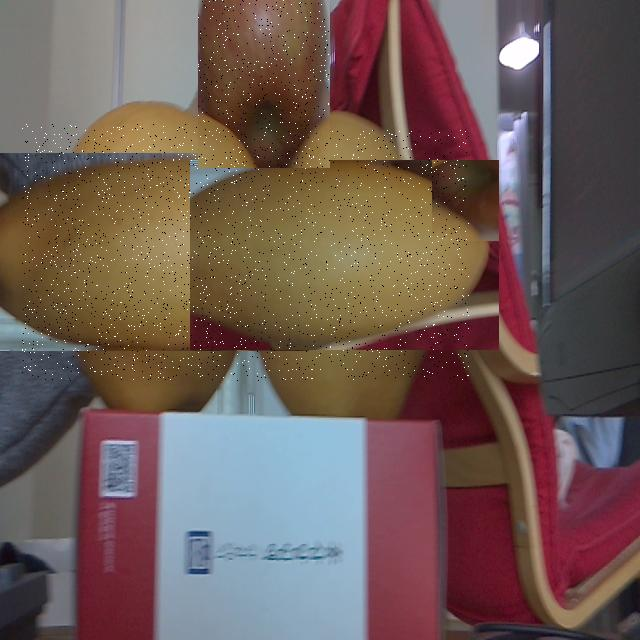apple: (198, 0, 330, 168)
pear: (22, 124, 280, 381), (219, 130, 469, 380)
